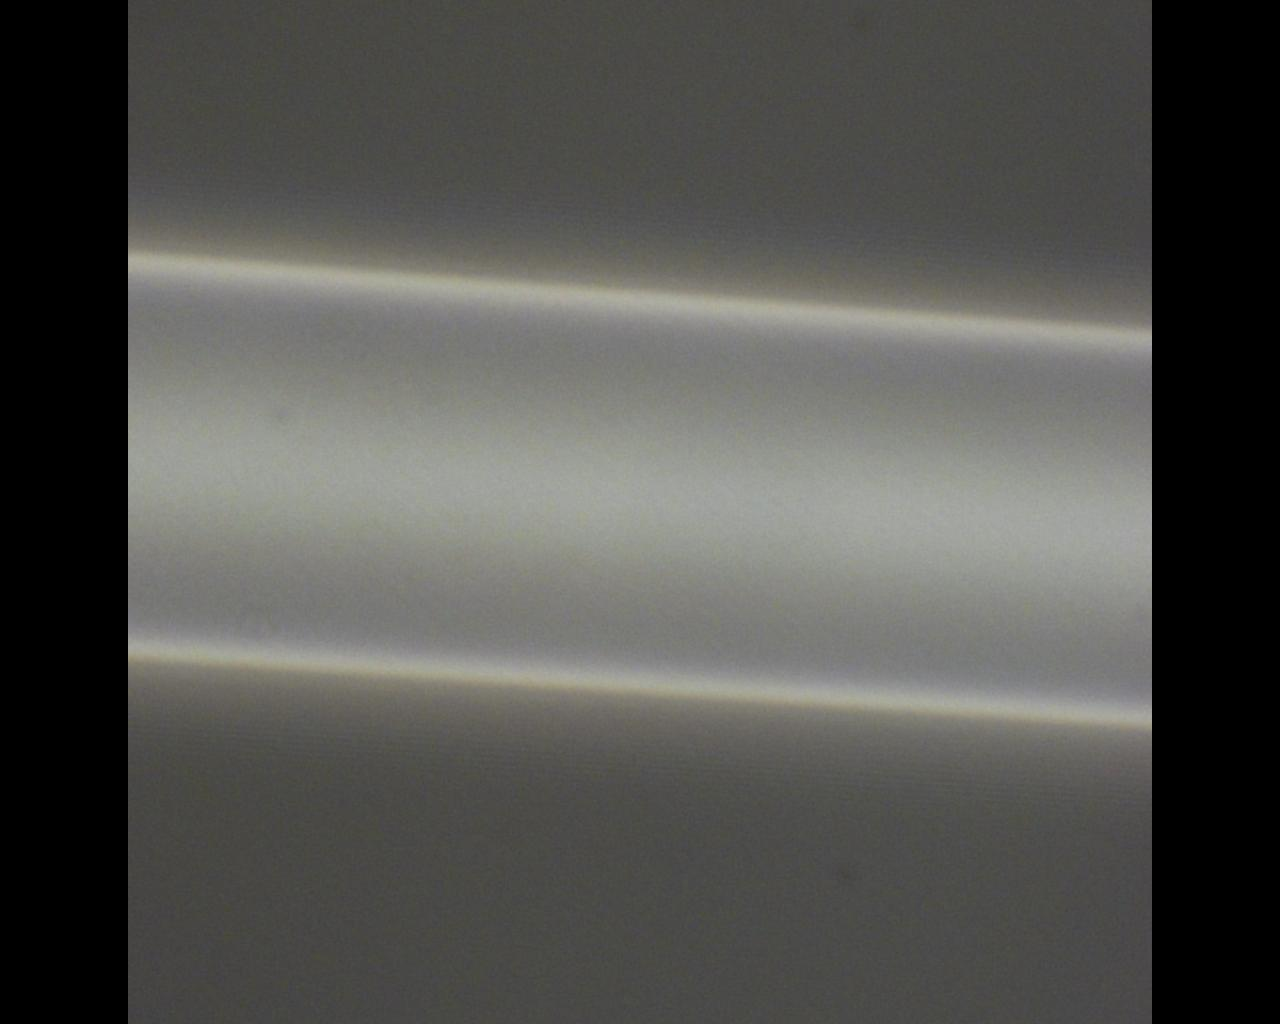fiber: (0, 491, 767, 900), (0, 21, 857, 247), (857, 352, 1174, 491)
